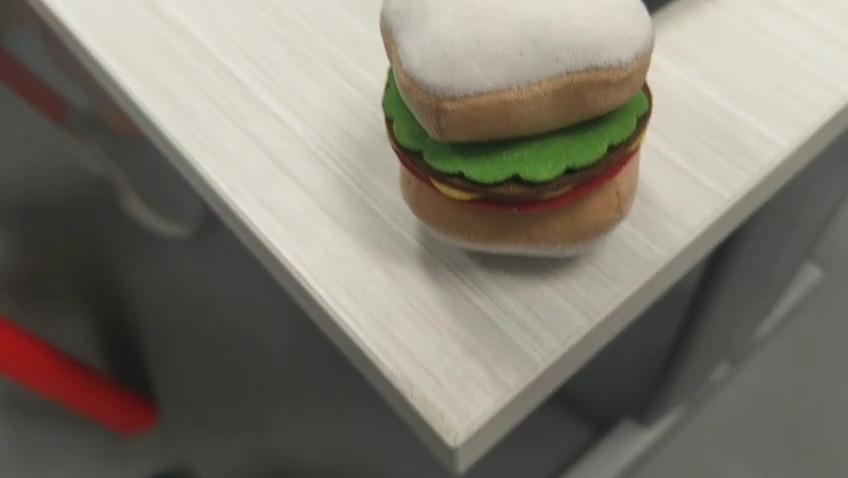objects: (377, 0, 658, 261)
